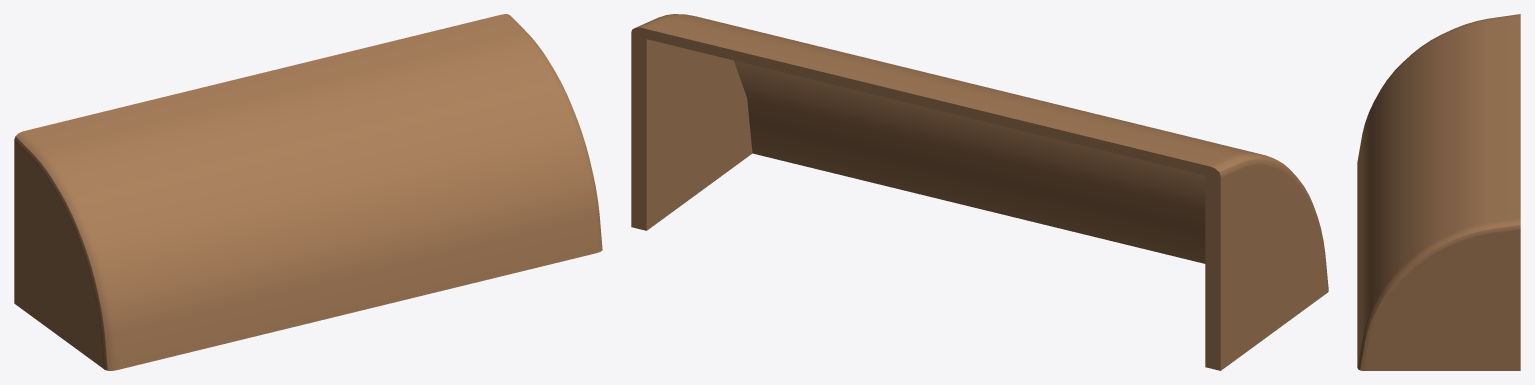
File: Cover.fbx
3 views of the same model, side by side, from view 1: azimuth 30°, elevation 25°; view 2: azimuth 150°, elevation 25°; view 3: azimuth 270°, elevation 25° (orthographic). The views are drawn at different scales.
Parts seen in each view (by area): view 1: Cover; view 2: Cover; view 3: Cover.
Part boxes in pixels (x1,y1,x2,y2): Cover: (14,14,602,370); Cover: (631,14,1328,370); Cover: (1357,14,1520,370).
Bounding box in the file's own units: 162 × 52.85 × 52.85.
